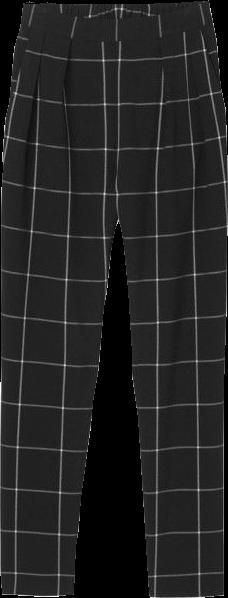Hemline: (0, 589, 75, 597), (147, 591, 223, 597)
Pantleg: (0, 0, 117, 597), (113, 0, 227, 597)
Waistline: (17, 19, 215, 46), (23, 1, 211, 20)
